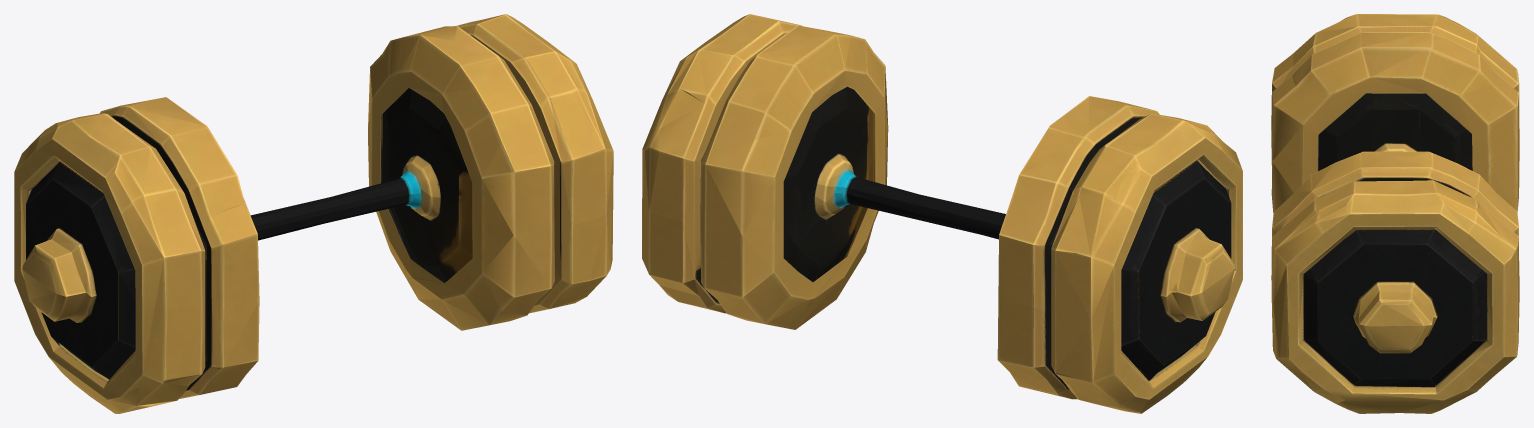
Rendered from LePoidsLourd.fbx.
3 renders of one model, left to right at view 1: azimuth 30°, elevation 25°; view 2: azimuth 150°, elevation 25°; view 3: azimuth 270°, elevation 25°, orthographic. The views are drawn at different scales.
Parts seen in each view (by area): view 1: PR_LePoidsLourd_LOD0; view 2: PR_LePoidsLourd_LOD0; view 3: PR_LePoidsLourd_LOD0.
Boxes of the visible parts, x1=… form: PR_LePoidsLourd_LOD0: x1=14, y1=14, x2=613, y2=413; PR_LePoidsLourd_LOD0: x1=642, y1=14, x2=1242, y2=413; PR_LePoidsLourd_LOD0: x1=1271, y1=14, x2=1519, y2=413.
Size of the model in its own units: 0.65 by 0.3 by 0.3.
Materials: 1 (1 with a texture image).
